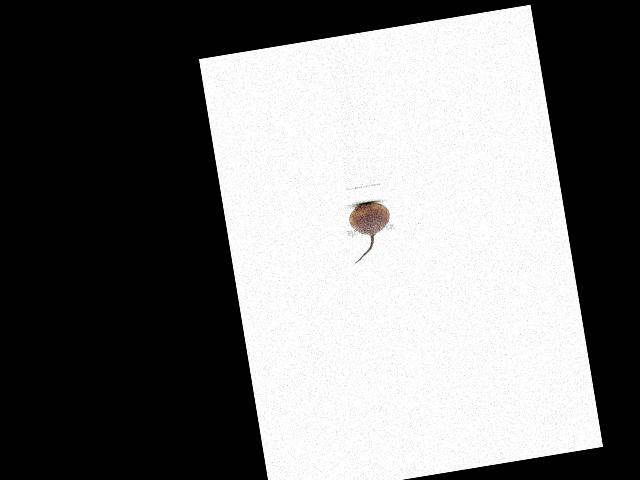beet: (346, 198, 397, 263)
